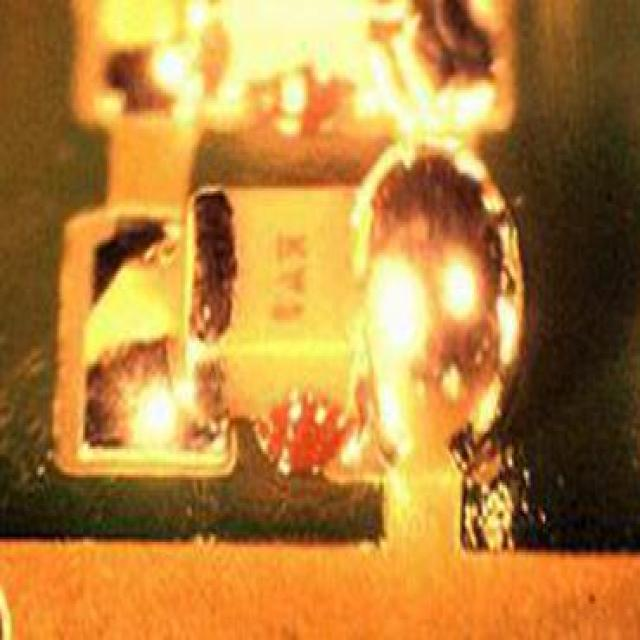redundant: (368, 153, 521, 456)
